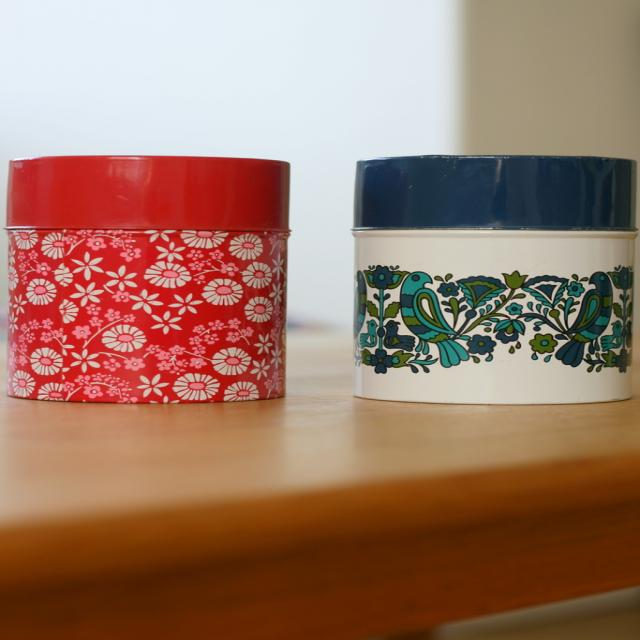Box: (351, 154, 638, 405), (3, 155, 292, 404)
